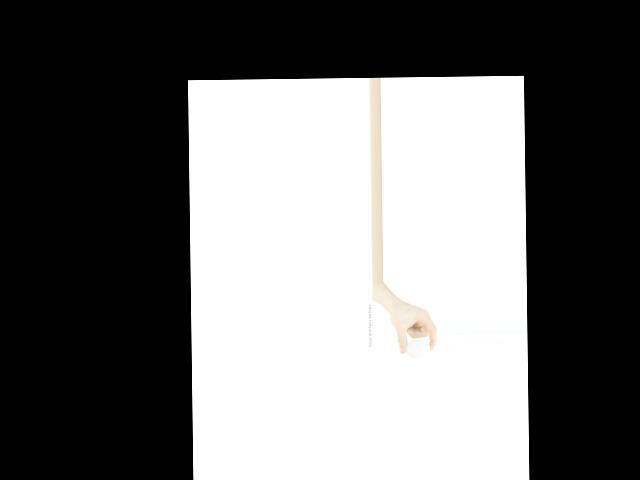egg: (405, 339, 430, 357)
